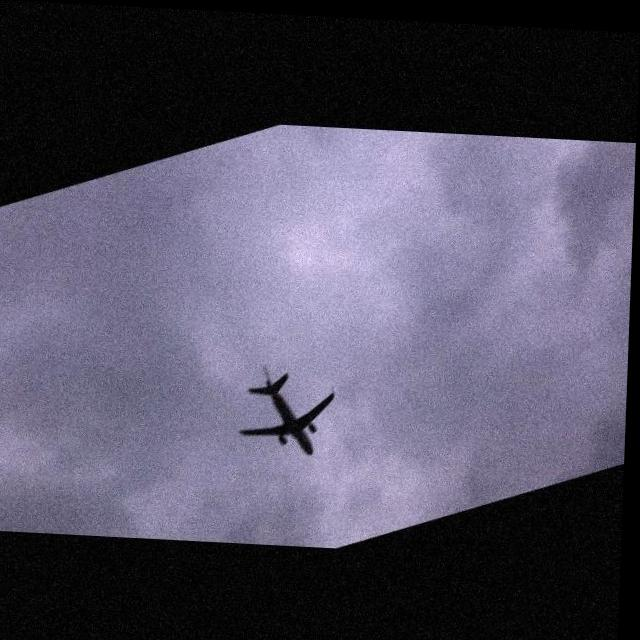airplane: (240, 359, 341, 458)
